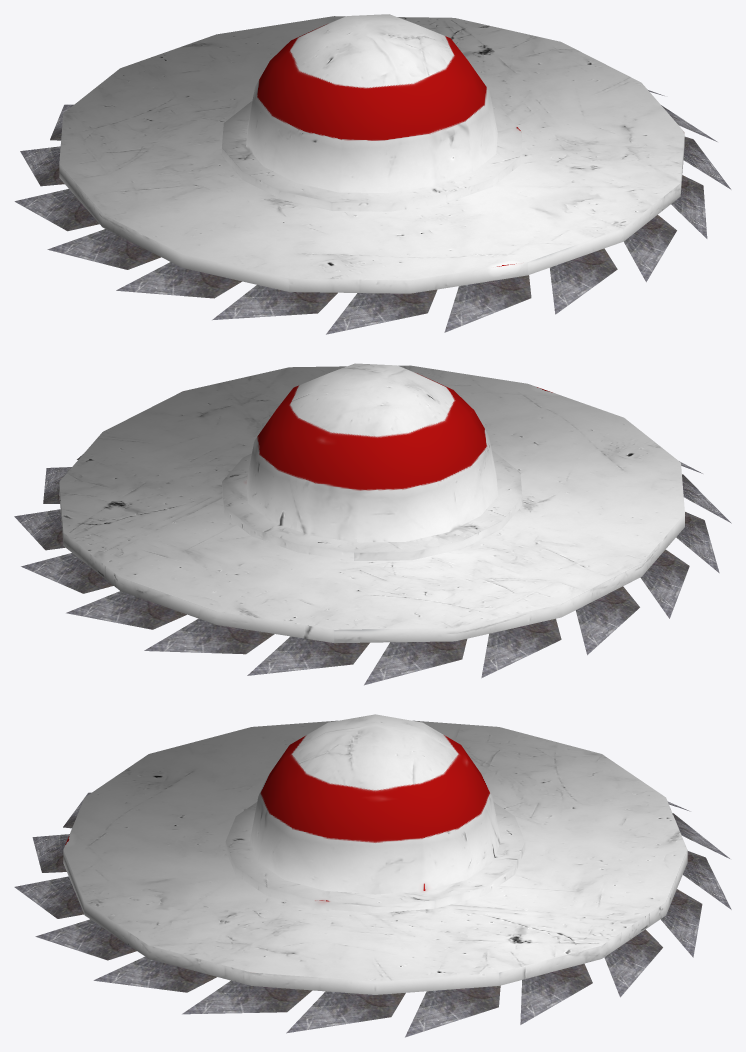
Rendered from saw-turel.fbx.
3 renders of one model, top to bottom at view 1: azimuth 30°, elevation 25°; view 2: azimuth 150°, elevation 25°; view 3: azimuth 270°, elevation 25°, orthographic.
Parts seen in each view (by area): view 1: Cube; view 2: Cube; view 3: Cube.
Boxes of the visible parts, x1,y1,x2,y2 form: Cube: (14, 14, 731, 334); Cube: (14, 363, 731, 685); Cube: (14, 714, 731, 1037).
Size of the model in its own units: 481 by 116 by 480.
